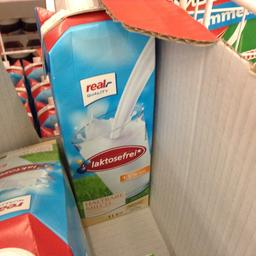milk: (36, 0, 166, 224), (0, 135, 91, 255)
